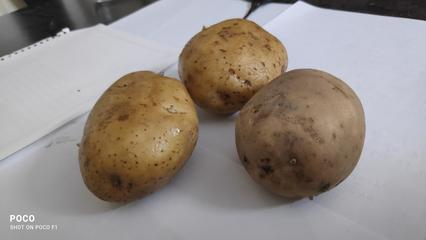potato: (232, 70, 371, 197), (87, 66, 198, 203), (179, 12, 280, 119)
